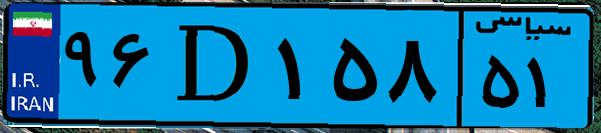1: (270, 28, 330, 110), (525, 38, 570, 115)
5: (330, 28, 385, 110), (475, 38, 525, 113)
6: (110, 28, 158, 98)
8: (385, 28, 445, 110)
9: (57, 26, 110, 100)
D: (158, 12, 270, 120)
